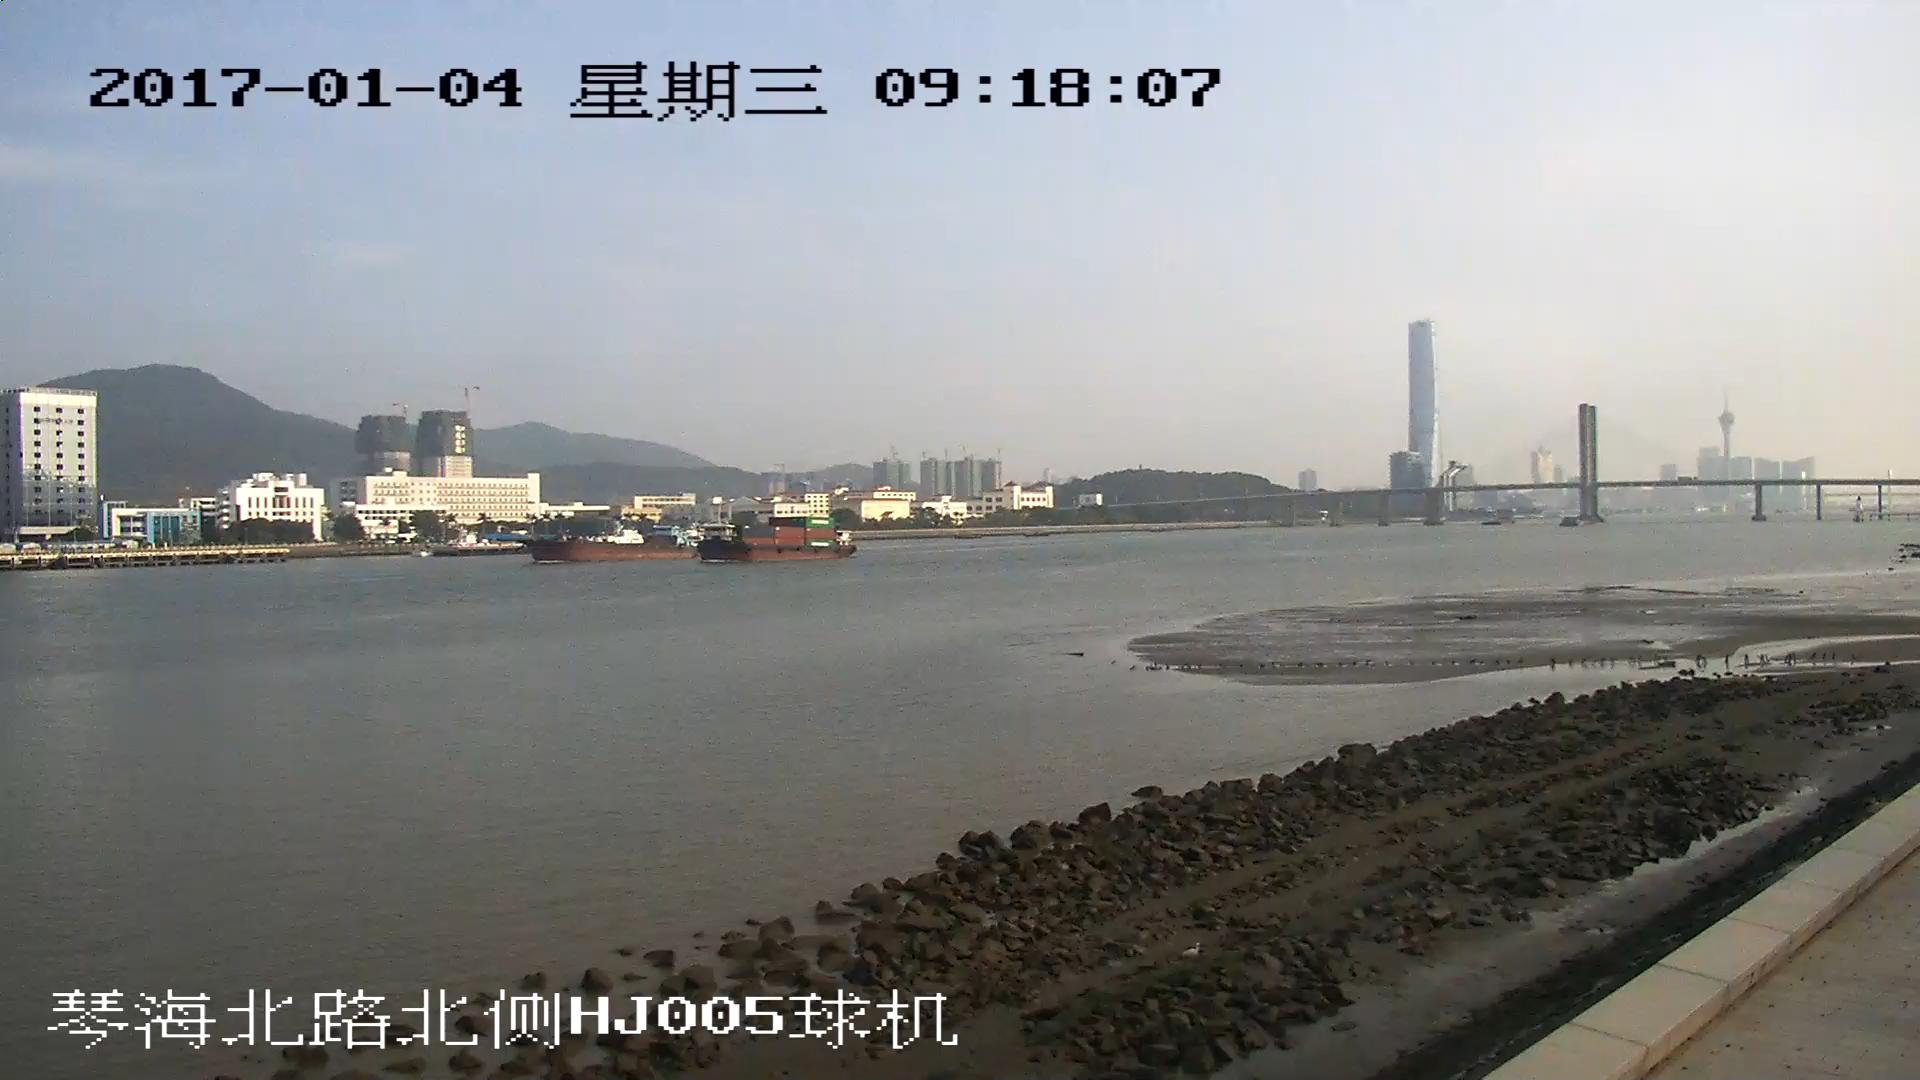bulk cargo carrier: (531, 533, 684, 559)
container ship: (695, 515, 851, 563)
